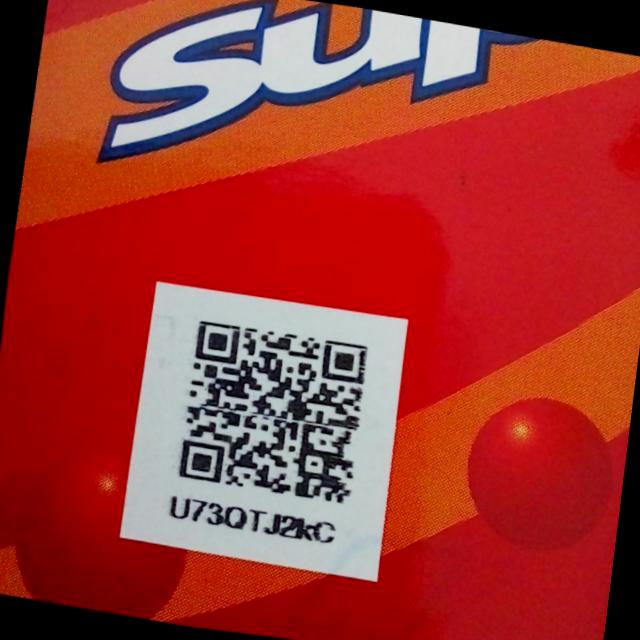QRCode: (164, 311, 389, 517)
